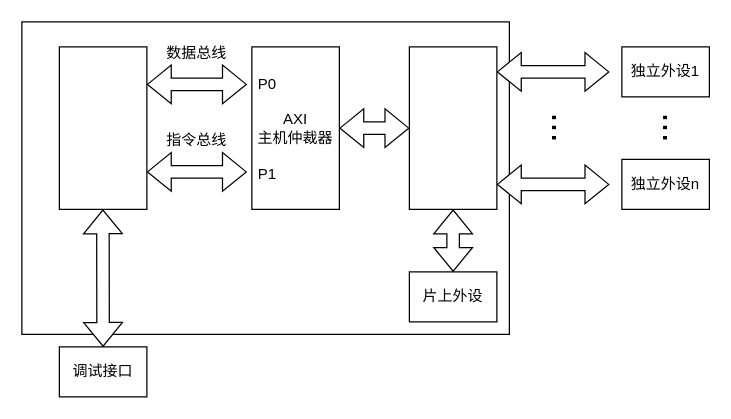
This 731x419 diagram has some shape labels left out. The shapes that lost their labels are listed below. From the top down, each one's centre as x and y in pixels, then its label:
the point at 102,127: 处理器核
the point at 452,127: AXI 读写分用器
